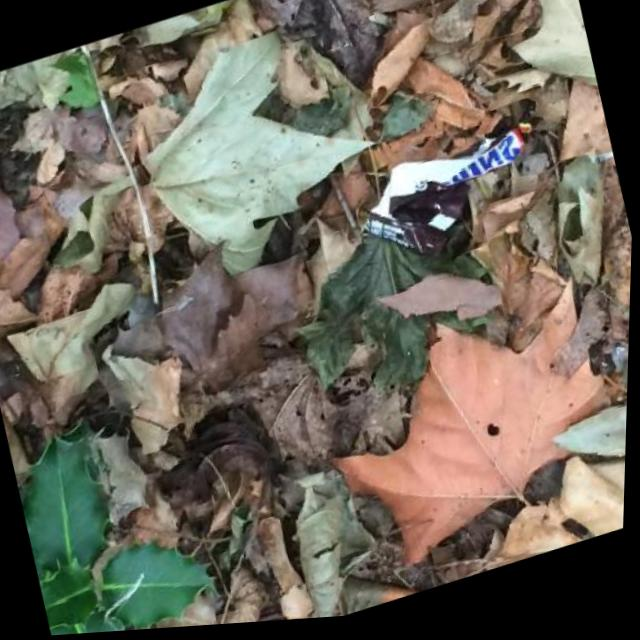plastic: (345, 111, 561, 285)
